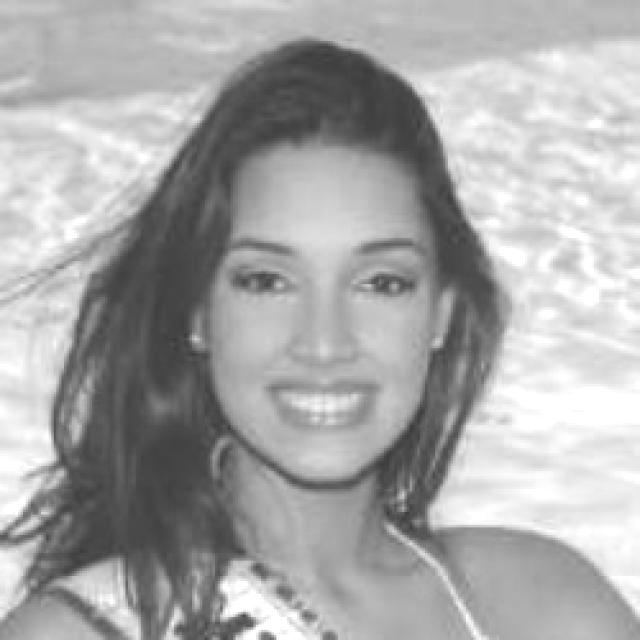real: (164, 38, 493, 510), (224, 255, 427, 320)
